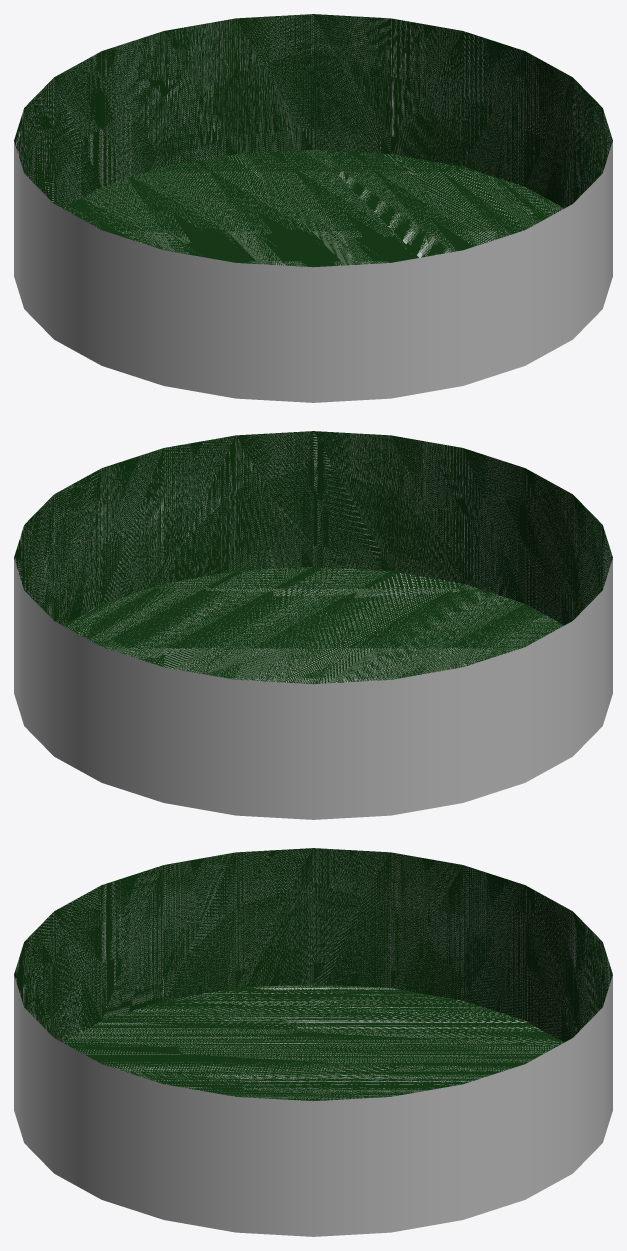
Rendered from original-30.obj.
3 renders of one model, top to bottom at view 1: azimuth 30°, elevation 25°; view 2: azimuth 150°, elevation 25°; view 3: azimuth 270°, elevation 25°, orthographic.
Visible parts, largest first — view 1: 3dw.b296fbfbbe5dccf09c12d6260da9ac2b/Model/mesh1/mesh1-geometry/; view 2: 3dw.b296fbfbbe5dccf09c12d6260da9ac2b/Model/mesh1/mesh1-geometry/; view 3: 3dw.b296fbfbbe5dccf09c12d6260da9ac2b/Model/mesh1/mesh1-geometry/.
Part boxes in pixels (<box>): 3dw.b296fbfbbe5dccf09c12d6260da9ac2b/Model/mesh1/mesh1-geometry/: <box>14,14,612,402</box>; 3dw.b296fbfbbe5dccf09c12d6260da9ac2b/Model/mesh1/mesh1-geometry/: <box>14,431,612,819</box>; 3dw.b296fbfbbe5dccf09c12d6260da9ac2b/Model/mesh1/mesh1-geometry/: <box>14,848,612,1236</box>.
Bounding box in the file's own units: 0.0713 × 0.0178 × 0.0713.
